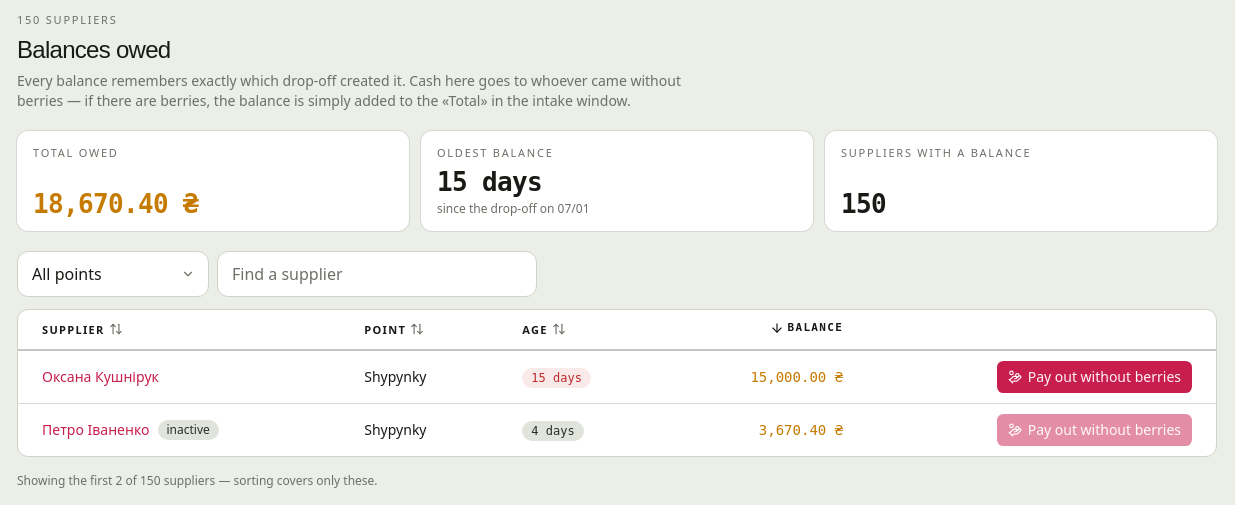
Test case: DebtsPage — sorting by a column (#229) › leaves the partial-list note to the empty state when a search finds nobody
This screenshot has width=1235, height=505.
Type "zzzzz" into the search field labelled "Find a supplier".
click(377, 274); type("zzzzz")  # box [217,251,537,297]
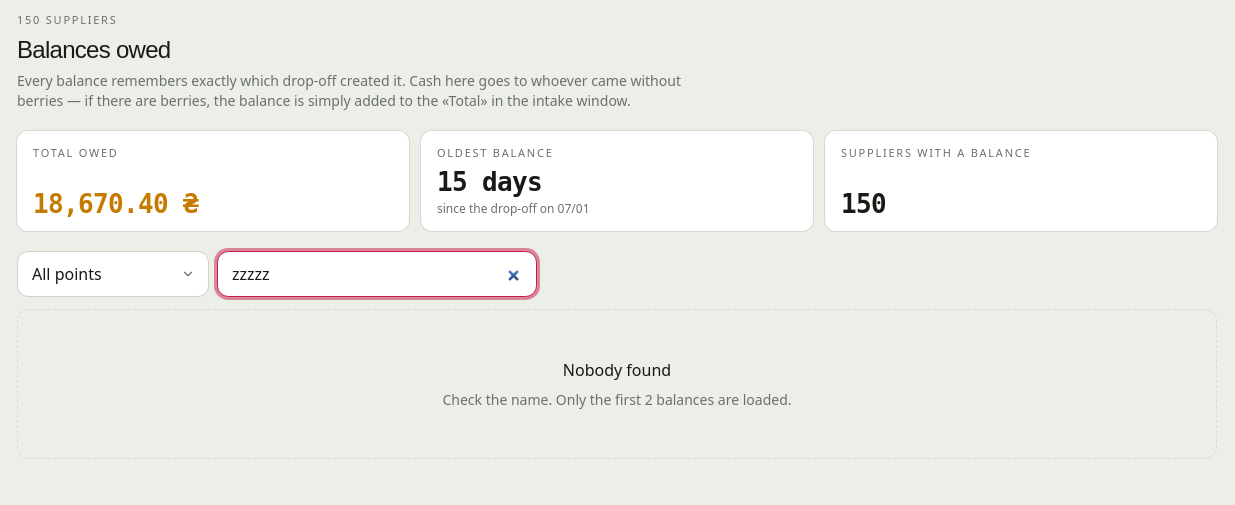
Expected: the text "Check the name. Only the first 2 balances are loaded." is shown, [442,390,792,410]
Expected: the text "sorting covers only these" is gone
